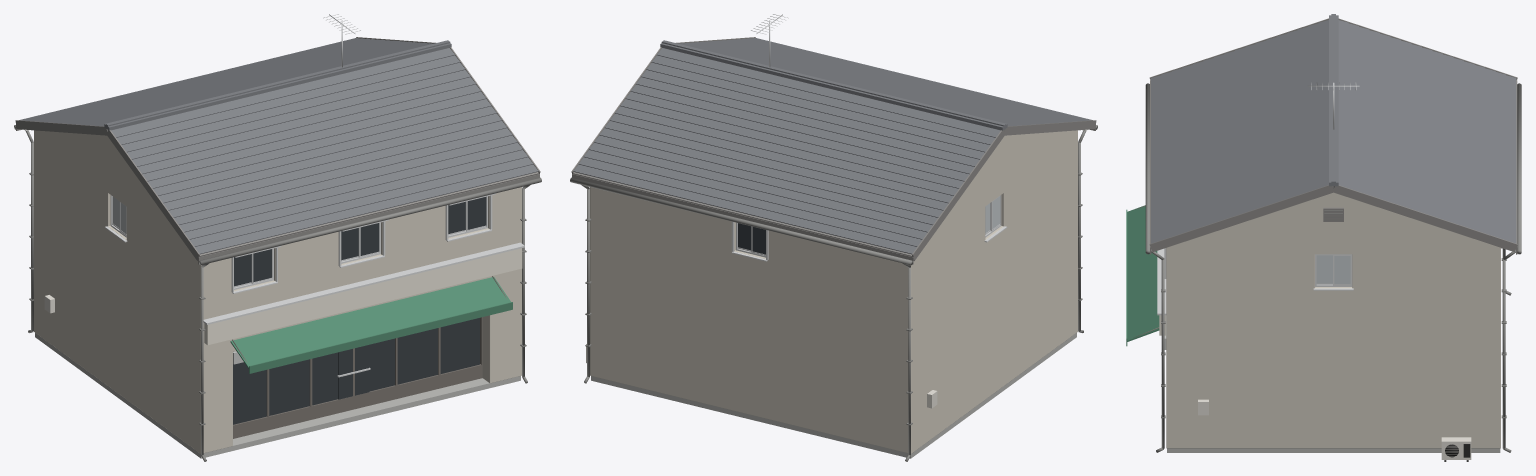
The model's file is blk_cornerbooks.glb.
3 views of the same model, side by side, from view 1: azimuth 30°, elevation 25°; view 2: azimuth 150°, elevation 25°; view 3: azimuth 270°, elevation 25° (orthographic).
Visible parts, largest first — view 1: blk_cornerbooks; view 2: blk_cornerbooks; view 3: blk_cornerbooks.
Part boxes in pixels (x1,y1,x2,y2): blk_cornerbooks: [14, 14, 541, 461]; blk_cornerbooks: [570, 14, 1097, 461]; blk_cornerbooks: [1126, 14, 1521, 461].
Size of the model in its own units: 10.94 by 9.59 by 10.63.
